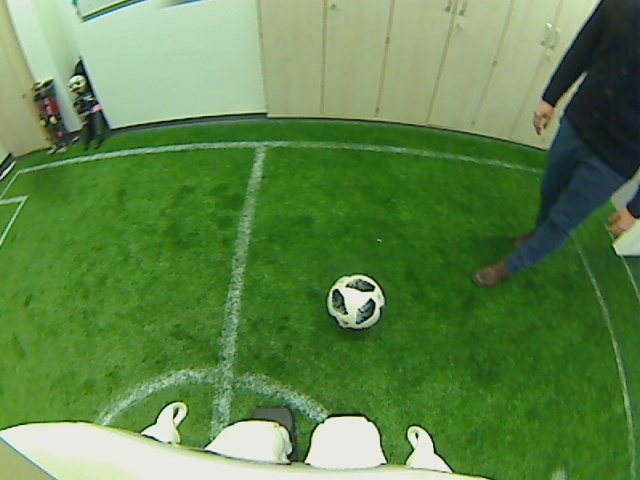ball: (325, 274, 387, 329)
